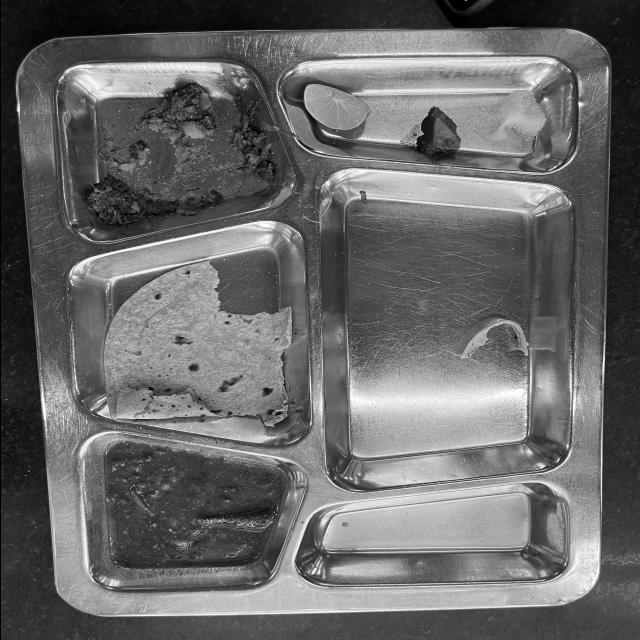20.3- Food Left: (64, 48, 604, 608)
